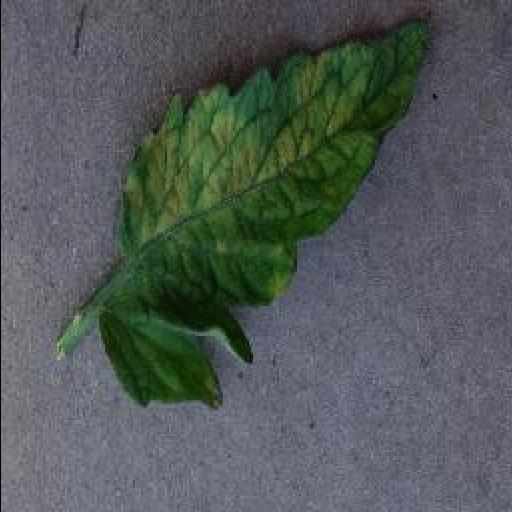disease_tomato: (98, 12, 440, 414)
